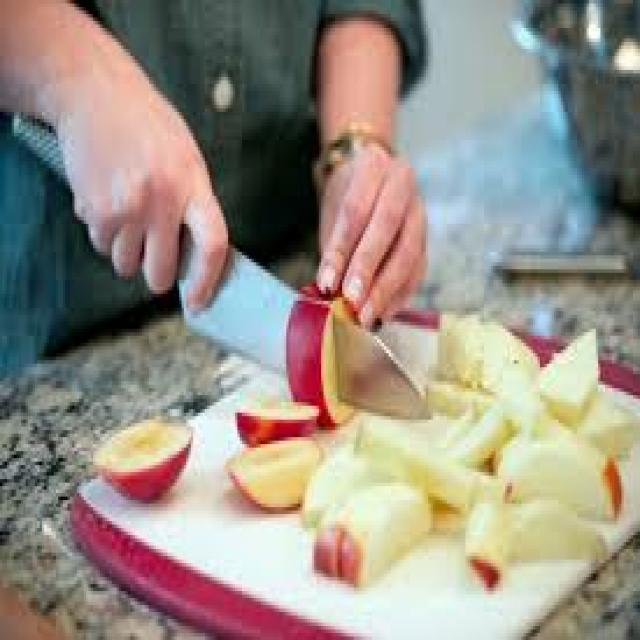Apple: (316, 488, 432, 594), (92, 417, 192, 502), (526, 442, 624, 522), (286, 300, 346, 428), (227, 443, 323, 510), (465, 495, 507, 588), (232, 403, 325, 441)
